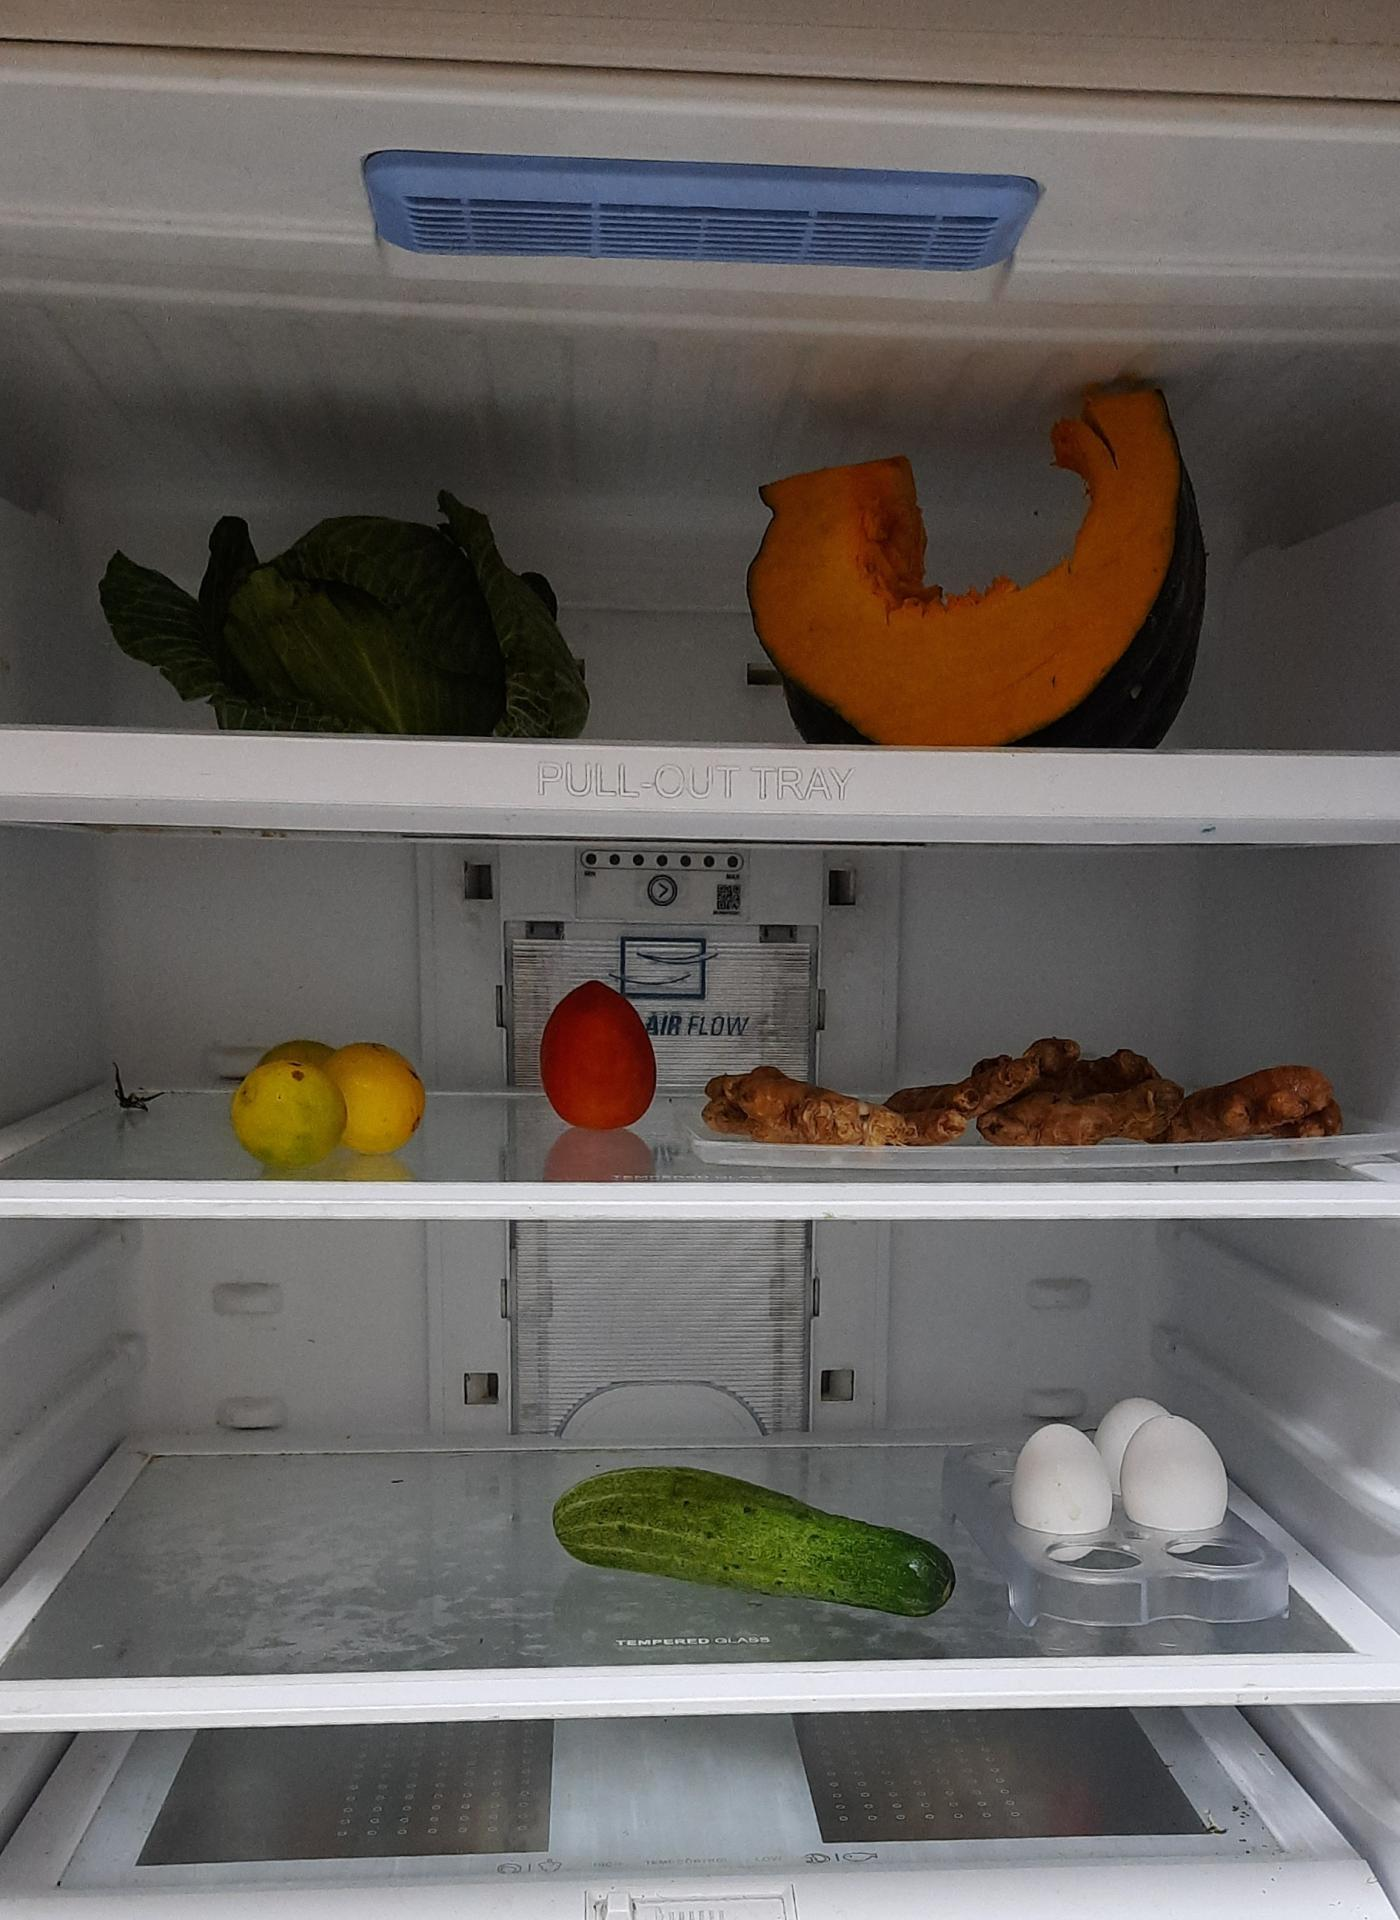cabbage: (91, 462, 595, 745)
cucumber: (561, 1476, 969, 1635)
egg: (1015, 1395, 1236, 1550)
ginger: (710, 1032, 1345, 1176)
lemon: (230, 1039, 428, 1166)
pumpkin: (735, 365, 1209, 748)
tomato: (540, 982, 659, 1133)
